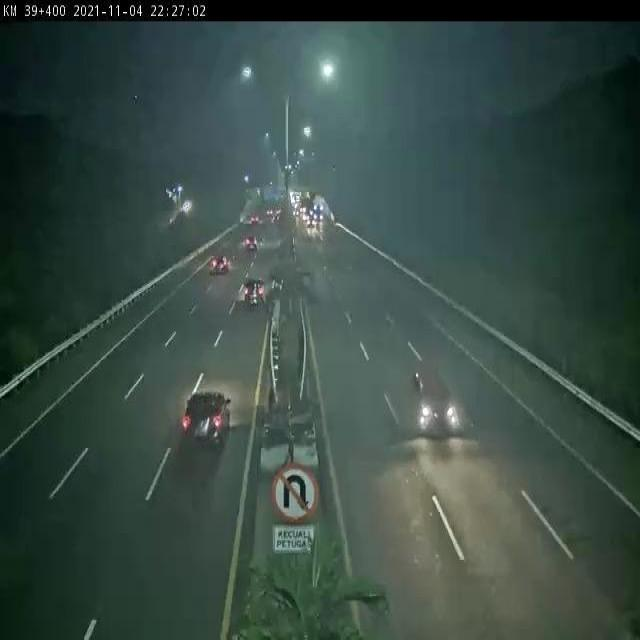car: (413, 364, 458, 436), (180, 388, 233, 447), (242, 274, 266, 306), (210, 252, 231, 275)
